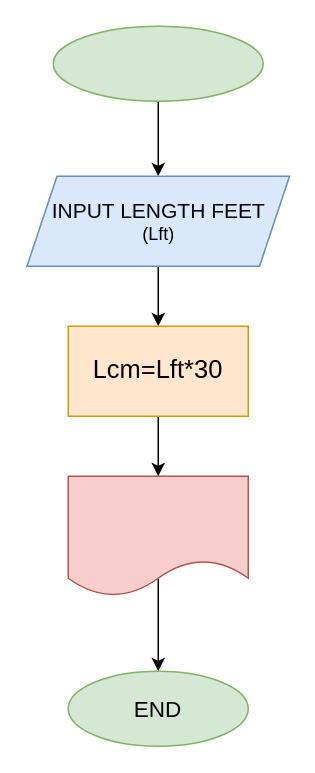
Image size: 315x773. Some labels were removed from this diagram. The shapes that lost their labels are listed below. From the top down, each one's centre as x and y in pixels, then its label:
At (x=157, y=63): "START".
At (x=157, y=535): "Lcm".
